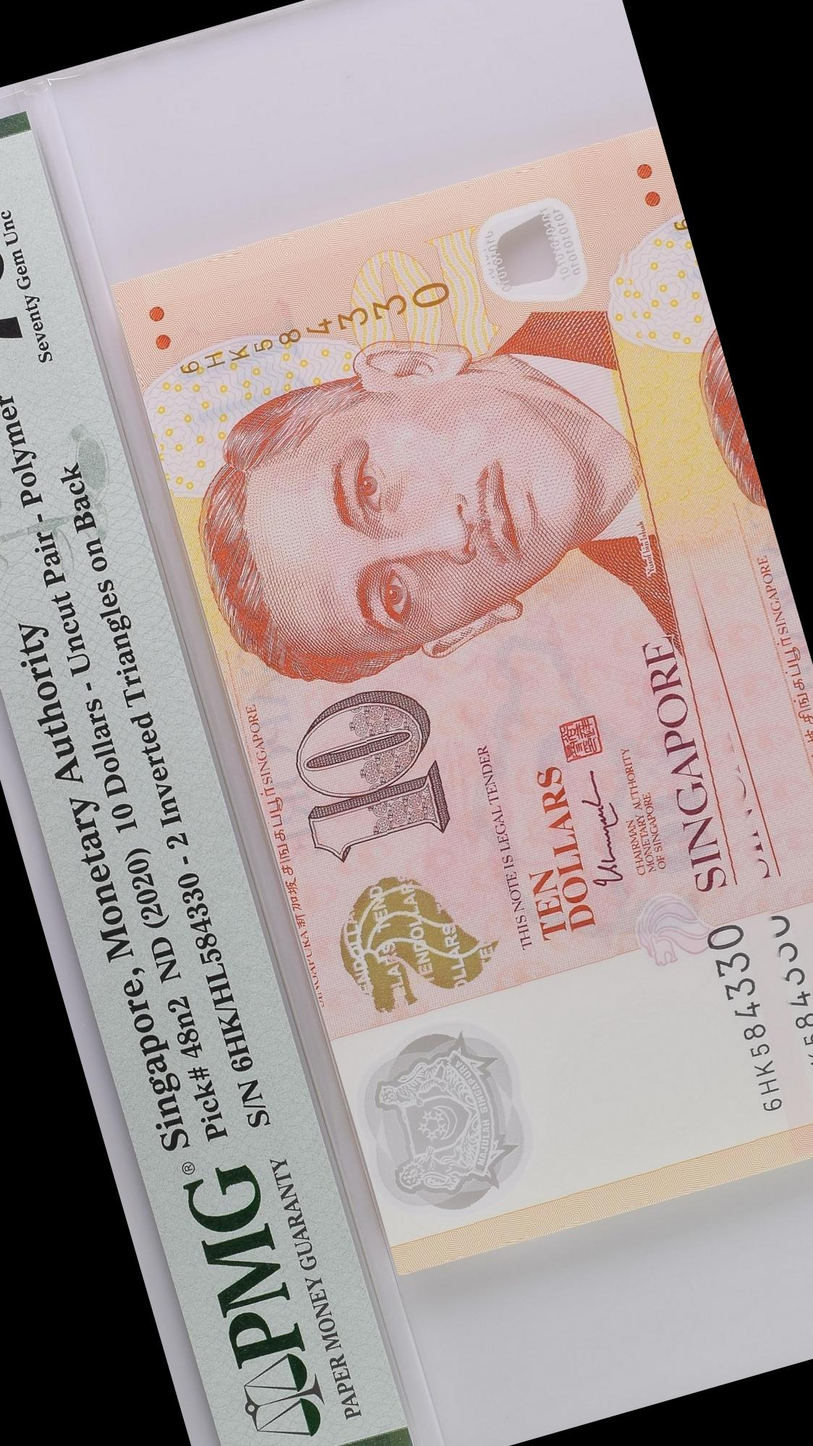10SingaporeDollar: (115, 149, 813, 1275)
